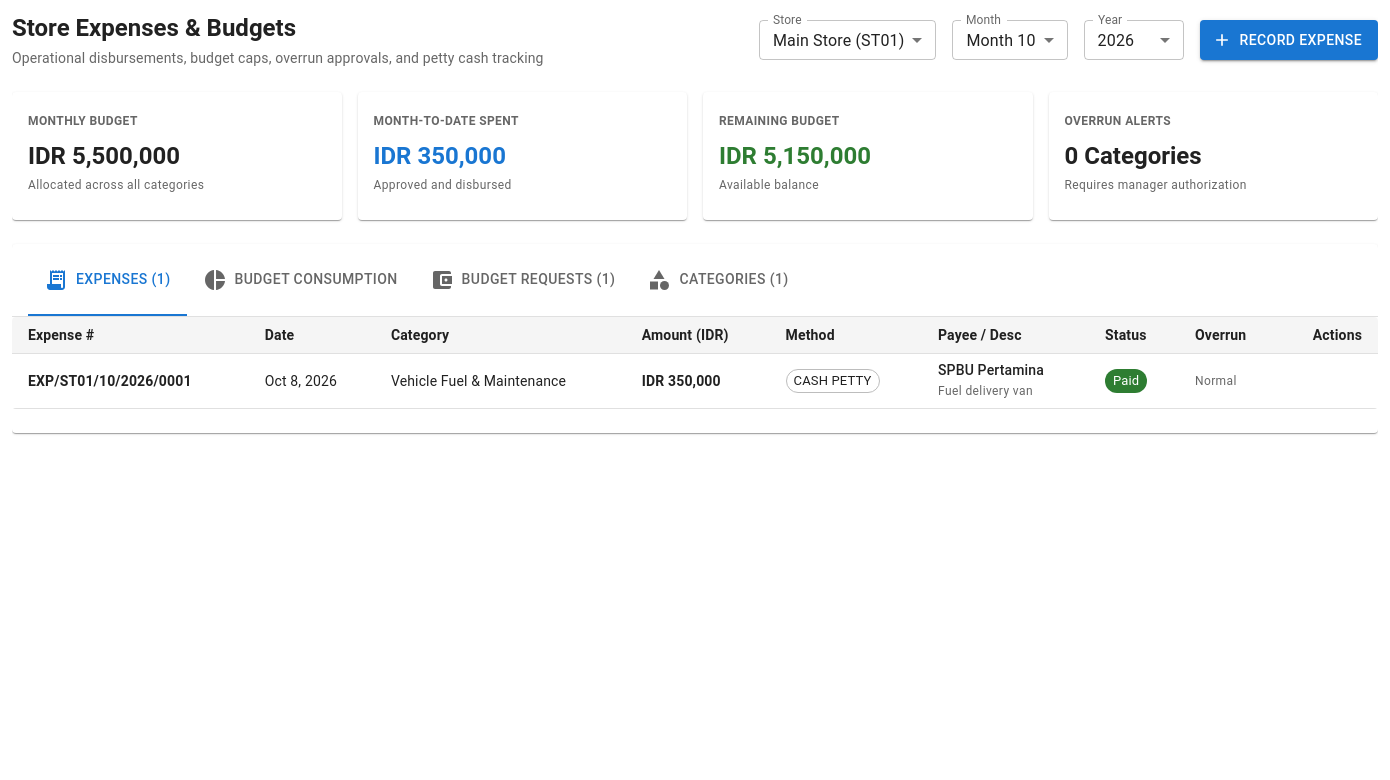
Test case: ExpenseBudgetPage › switches between tabs cleanly
The image size is (1390, 780).
# Click Budget Consumption tab
Click the tab "Budget Consumption".
click(300, 280)  # box 186,244 -> 414,316
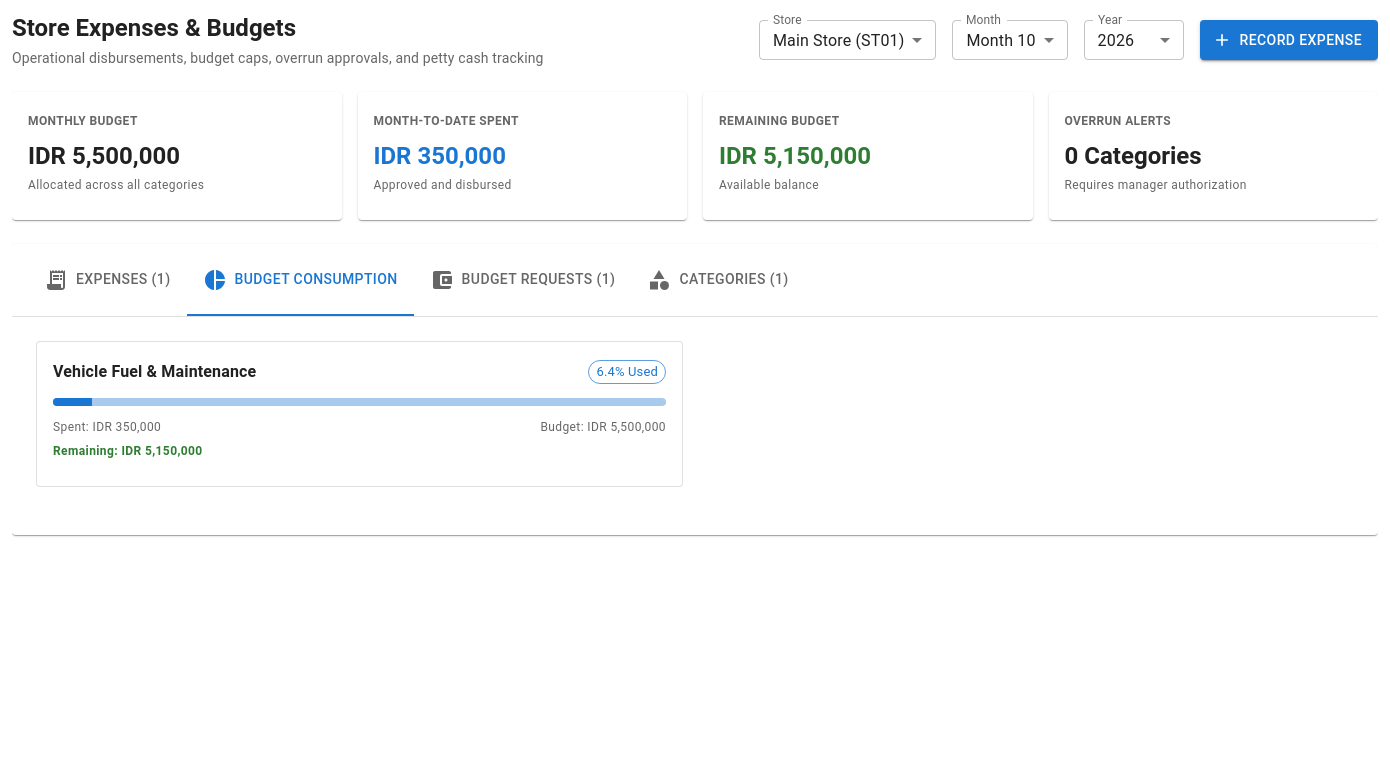
Now the text "6.4% Used" is shown, box 596,364 -> 658,379
# Click Budget Requests tab
Click the tab "Budget Requests (1)".
click(522, 280)  # box 414,244 -> 631,316
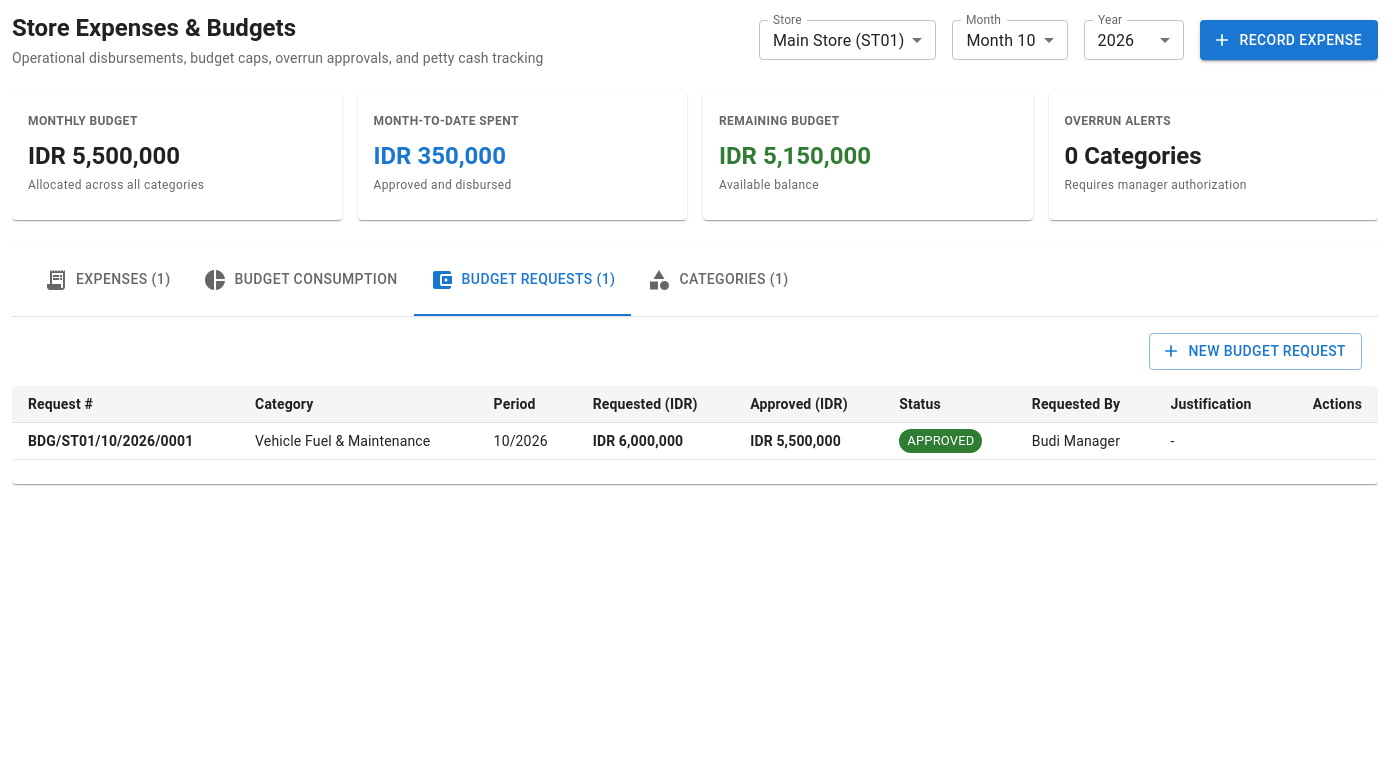
Now the text "BDG/ST01/10/2026/0001" is shown, box 12,422 -> 239,459
# Click Categories tab
Click the tab "Categories (1)".
click(718, 280)  # box 632,244 -> 805,316
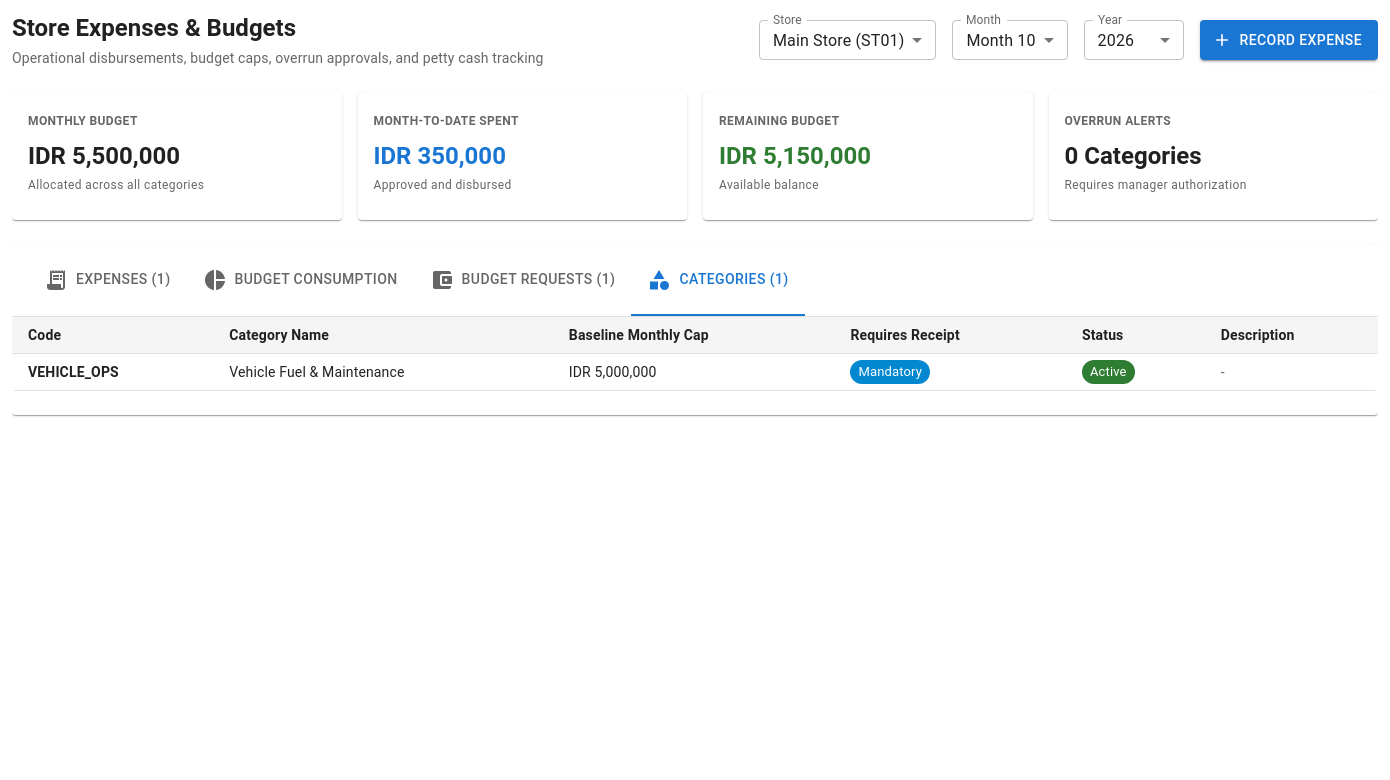
Now the text "VEHICLE_OPS" is shown, box 12,354 -> 213,390
